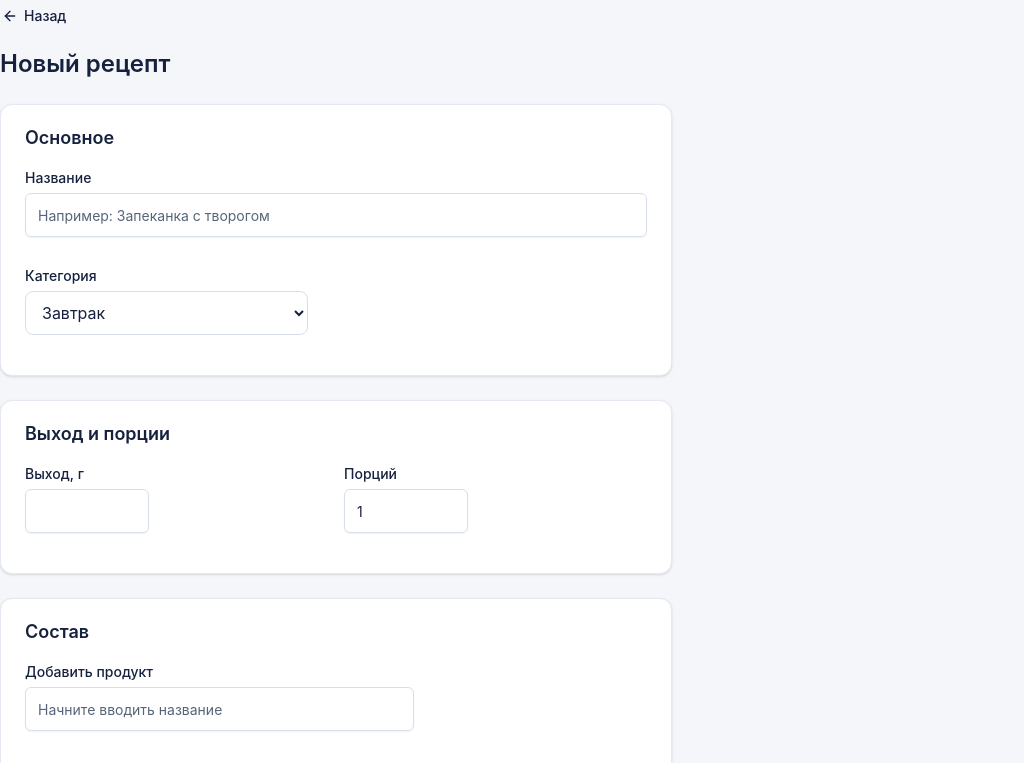
показатели в форме рецепта › медленная карточка продукта не оставляет числа ненайденными навсегда
Type "масло" into the dropdown labelled "Добавить продукт" at (219, 709), box [25,687,414,731]
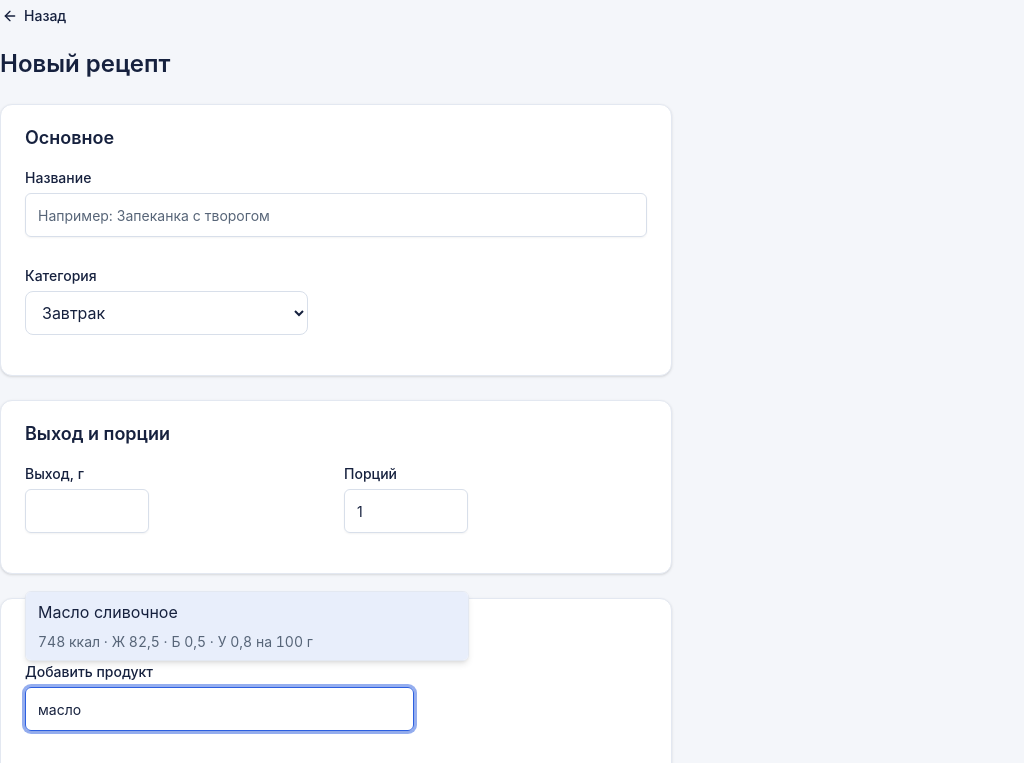
Click the option "Масло сливочное 748 ккал · Ж 82,5 · Б 0,5 · У 0,8 на 100 г" at (108, 612), box [26,592,468,660]
(page scrolled)
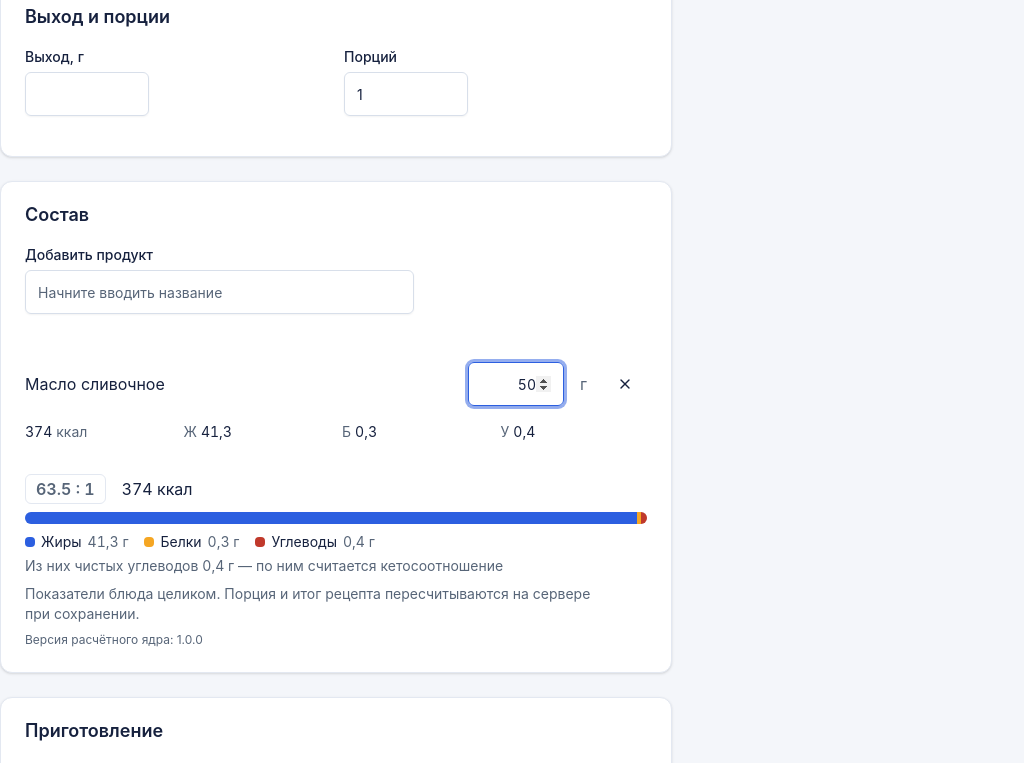
Expected: the text "374 ккал" is shown, [122,477,193,501]
